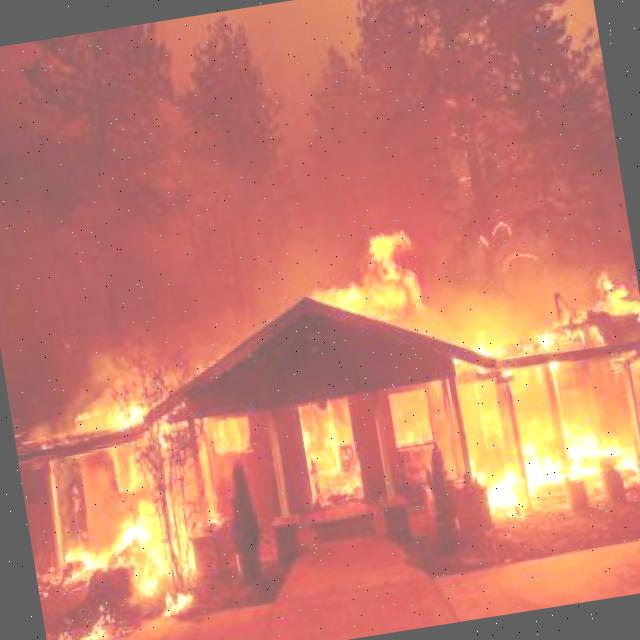fire: (473, 308, 578, 392), (92, 511, 176, 597), (365, 231, 424, 323), (305, 424, 360, 502), (511, 436, 569, 501), (54, 523, 107, 593), (475, 452, 530, 516), (588, 264, 640, 326), (594, 422, 640, 492), (326, 272, 377, 328), (558, 407, 607, 461), (44, 612, 117, 640), (154, 589, 201, 627), (110, 398, 150, 442)
